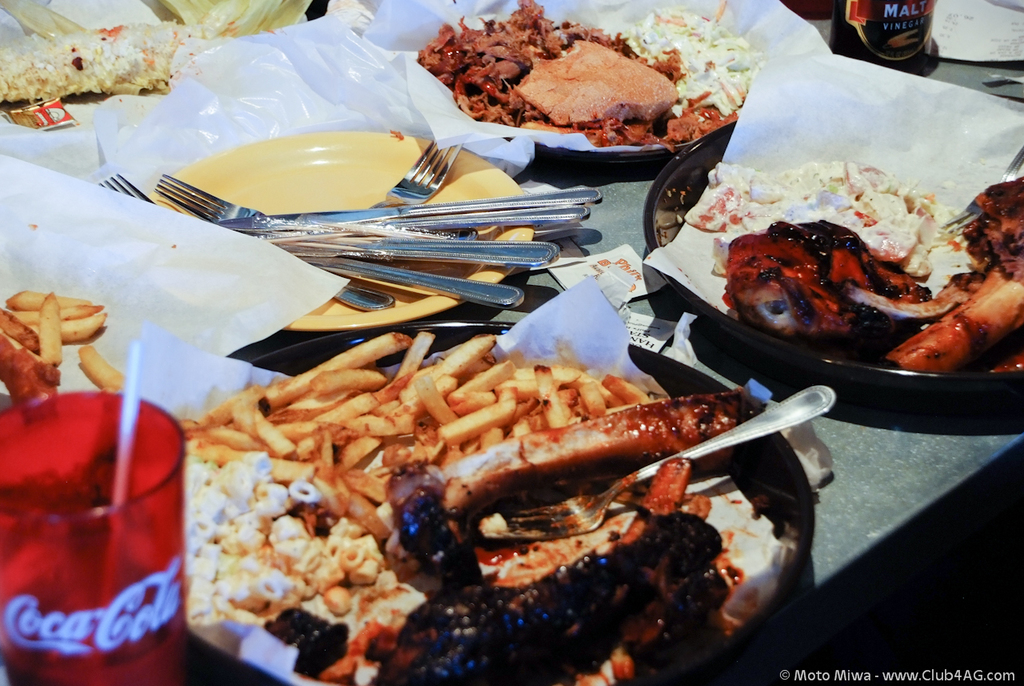French fries: (179, 329, 809, 553), (0, 285, 129, 389)
